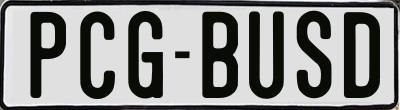B: (202, 12, 240, 101)
C: (77, 10, 112, 100)
D: (342, 11, 380, 99)
G: (125, 10, 166, 104)
P: (30, 11, 67, 100)
S: (297, 8, 336, 101)
U: (249, 8, 286, 96)
